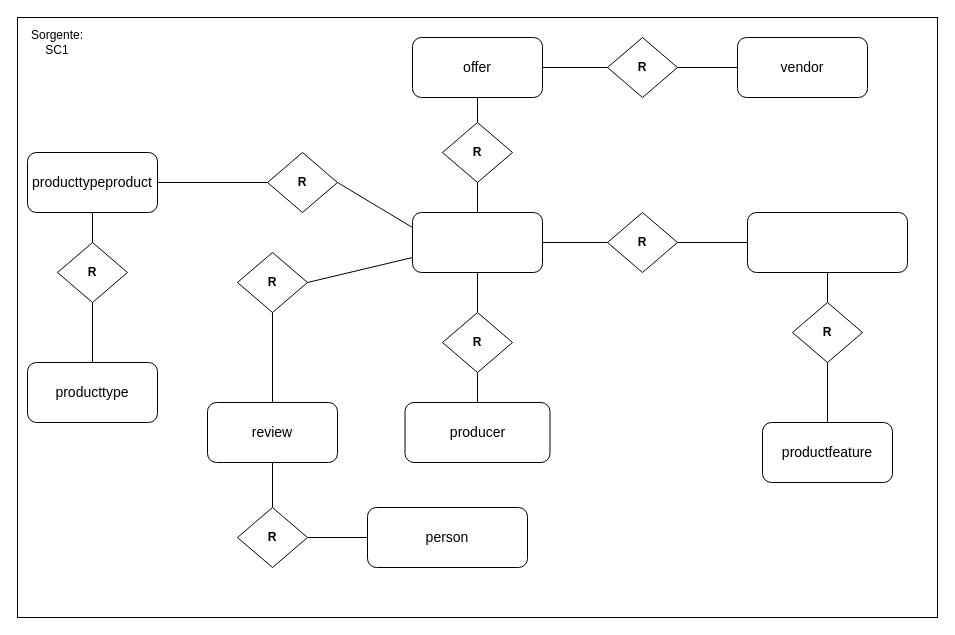
Image size: 955x635. Some labels were removed from this diagram. Here are the shapes that lost their labels. From the top down, the centre of each, then its label:
At [477,242]: "product".
At [827,242]: "productfeatureproduct".
